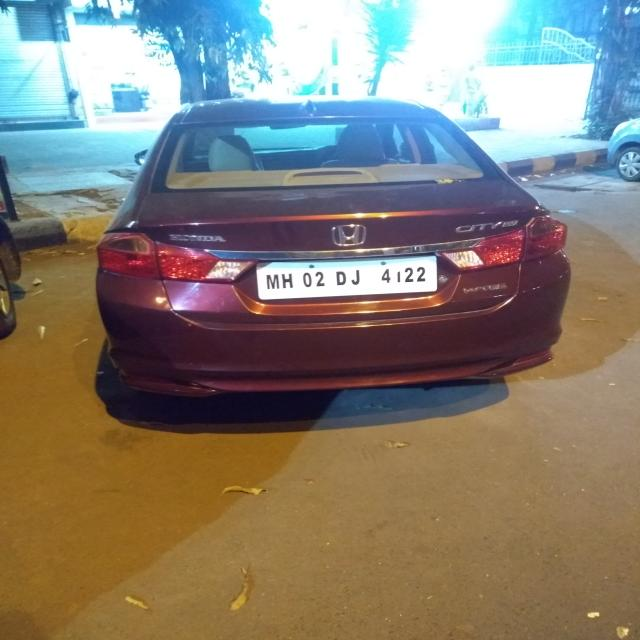Number-Plate: (259, 259, 440, 300)
